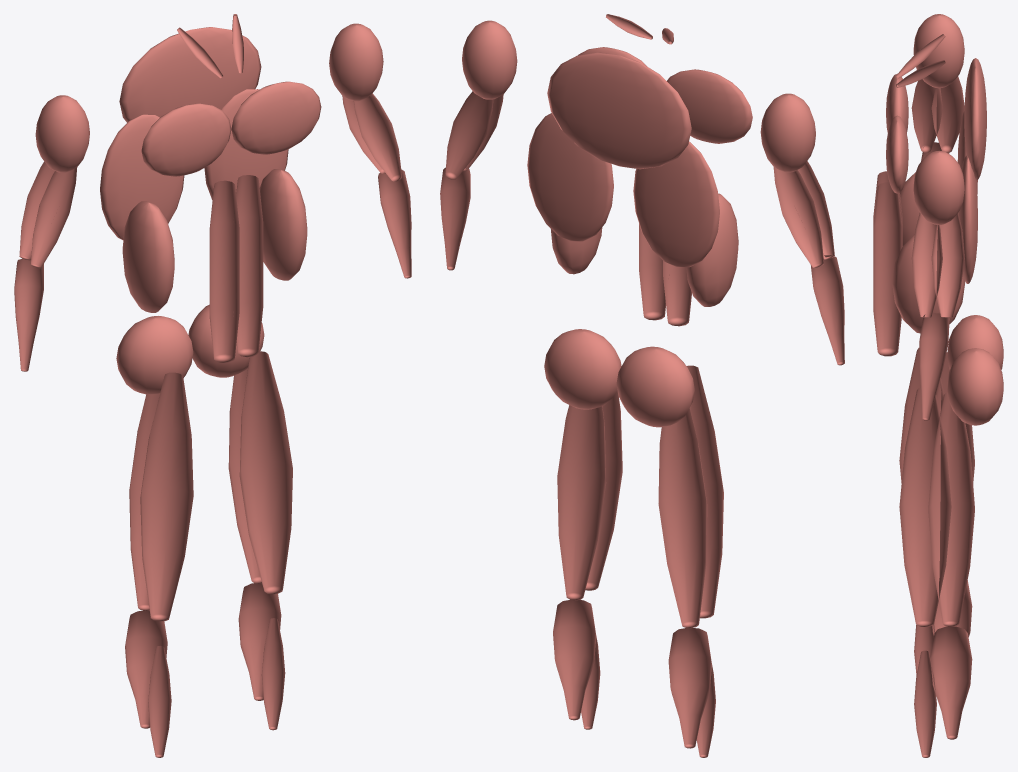
File: muscles.glb
The picture shows the model from 3 angles, left to right: view 1: azimuth 30°, elevation 25°; view 2: azimuth 150°, elevation 25°; view 3: azimuth 270°, elevation 25°; orthographic projection. The views are drawn at different scales.
Visible parts, largest first — view 1: quadriceps_r, quadriceps_l, rectus_abdominis, trapezius, latissimus_r, pectoralis_r, pectoralis_l, obliques_r, gluteus_r, obliques_l, deltoid_l, deltoid_r (+14 smaller); view 2: trapezius, hamstrings_r, latissimus_r, hamstrings_l, latissimus_l, gluteus_r, gluteus_l, pectoralis_r, quadriceps_r, gastrocnemius_r, gastrocnemius_l, deltoid_l (+12 smaller); view 3: quadriceps_l, hamstrings_l, rectus_abdominis, gluteus_l, gastrocnemius_l, deltoid_l, deltoid_r, triceps_l, forearm_muscles_l, biceps_l, trapezius, obliques_l (+15 smaller).
Boxes of the visible parts, bbox=[...] form: quadriceps_r: bbox=[140, 372, 193, 621]; quadriceps_l: bbox=[239, 351, 292, 594]; rectus_abdominis: bbox=[209, 175, 263, 362]; trapezius: bbox=[119, 27, 261, 122]; latissimus_r: bbox=[100, 114, 184, 239]; pectoralis_r: bbox=[141, 103, 231, 176]; pectoralis_l: bbox=[231, 81, 321, 154]; obliques_r: bbox=[122, 201, 174, 312]; gluteus_r: bbox=[116, 316, 193, 394]; obliques_l: bbox=[259, 169, 307, 280]; deltoid_l: bbox=[329, 23, 383, 101]; deltoid_r: bbox=[35, 95, 89, 172]; trapezius: bbox=[547, 52, 691, 169]; hamstrings_r: bbox=[658, 408, 707, 628]; latissimus_r: bbox=[633, 141, 719, 267]; hamstrings_l: bbox=[557, 405, 606, 600]; latissimus_l: bbox=[527, 113, 613, 241]; gluteus_r: bbox=[616, 346, 694, 427]; gluteus_l: bbox=[544, 329, 621, 409]; pectoralis_r: bbox=[667, 69, 752, 143]; quadriceps_r: bbox=[686, 365, 723, 618]; gastrocnemius_r: bbox=[668, 628, 711, 748]; gastrocnemius_l: bbox=[553, 600, 596, 720]; deltoid_l: bbox=[462, 20, 517, 99]; quadriceps_l: bbox=[899, 387, 951, 626]; hamstrings_l: bbox=[928, 392, 974, 626]; rectus_abdominis: bbox=[873, 171, 902, 356]; gluteus_l: bbox=[947, 348, 1003, 425]; gastrocnemius_l: bbox=[930, 626, 972, 739]; deltoid_l: bbox=[913, 150, 964, 224]; deltoid_r: bbox=[913, 14, 964, 88]; triceps_l: bbox=[931, 213, 964, 317]; forearm_muscles_l: bbox=[919, 313, 949, 420]; biceps_l: bbox=[911, 213, 942, 317]; trapezius: bbox=[964, 58, 986, 180]; obliques_l: bbox=[892, 235, 964, 333].
Size of what is drawn, in the model's own units: 0.8283 by 1.44 by 0.2496.
